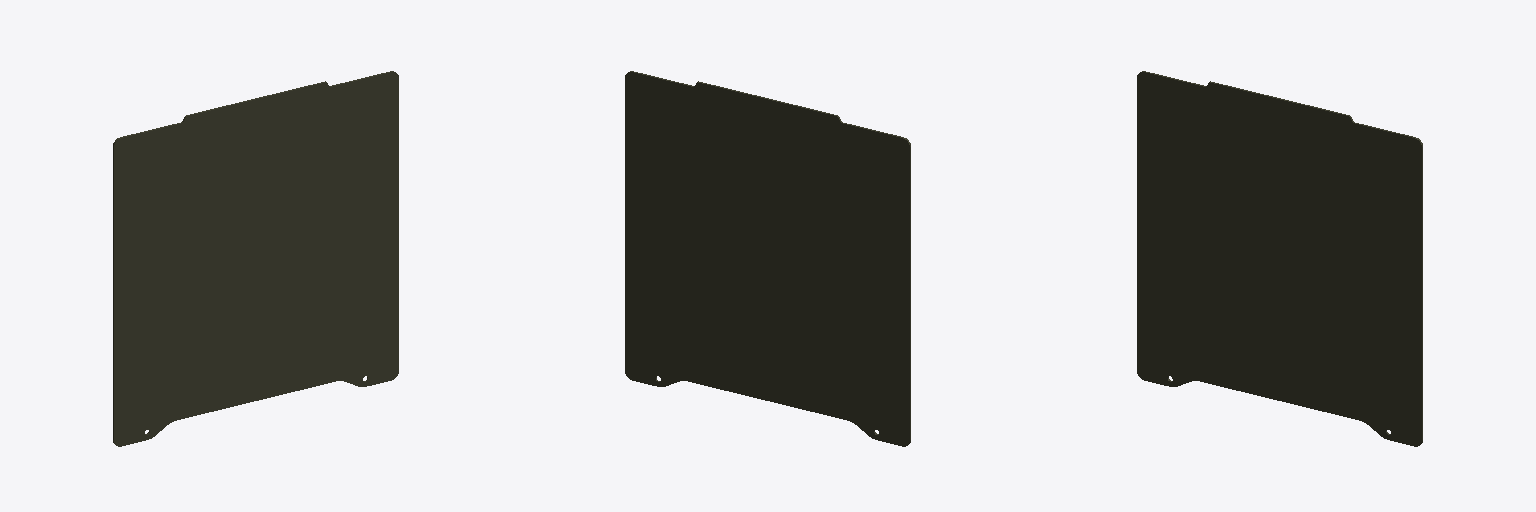
File: Mini_Sheet.obj
3 renders of one model, left to right at view 1: azimuth 30°, elevation 25°; view 2: azimuth 150°, elevation 25°; view 3: azimuth 330°, elevation 25°, orthographic.
Parts seen in each view (by area): view 1: Prusa_Mini; view 2: Prusa_Mini; view 3: Prusa_Mini.
Part boxes in pixels (bbox=[...]): Prusa_Mini: bbox=[113, 71, 398, 446]; Prusa_Mini: bbox=[625, 71, 910, 446]; Prusa_Mini: bbox=[1137, 71, 1422, 446].
Size of the model in its own units: 190 by 200 by 1.4.